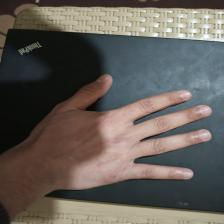five: (42, 74, 216, 190)
